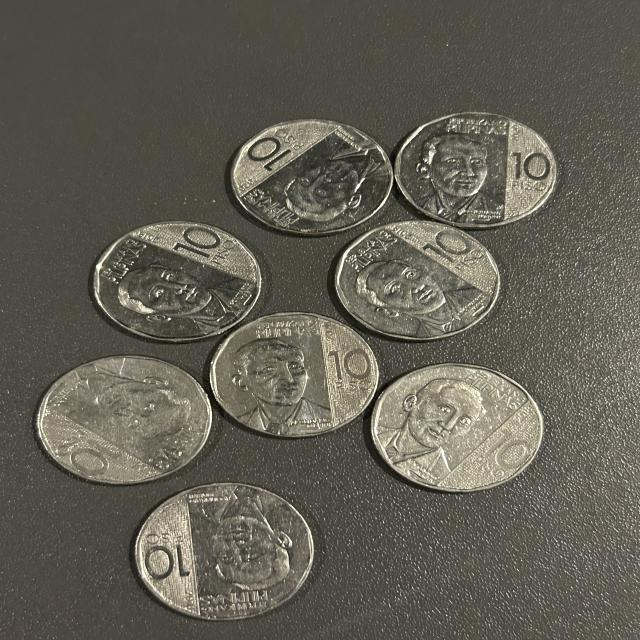10_New_Front: (341, 227, 512, 344), (404, 116, 572, 227), (144, 500, 311, 605), (57, 360, 212, 473), (108, 230, 260, 343), (231, 128, 387, 220), (400, 381, 531, 486), (228, 325, 372, 419)
